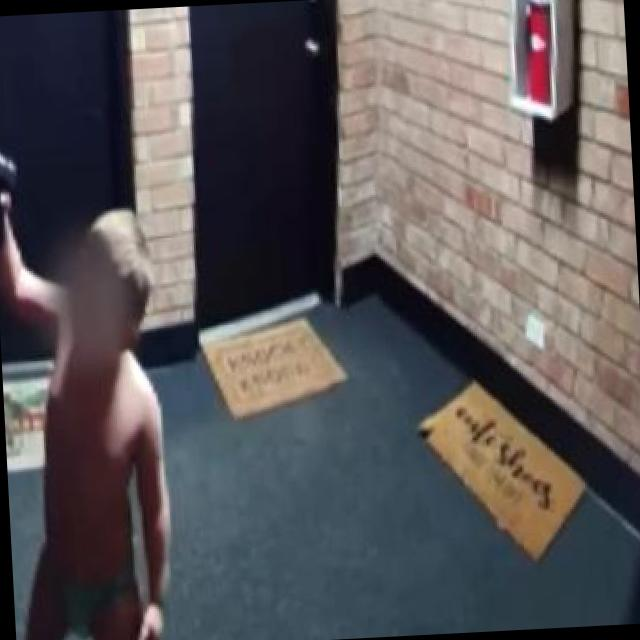Guns: (0, 109, 27, 242)
